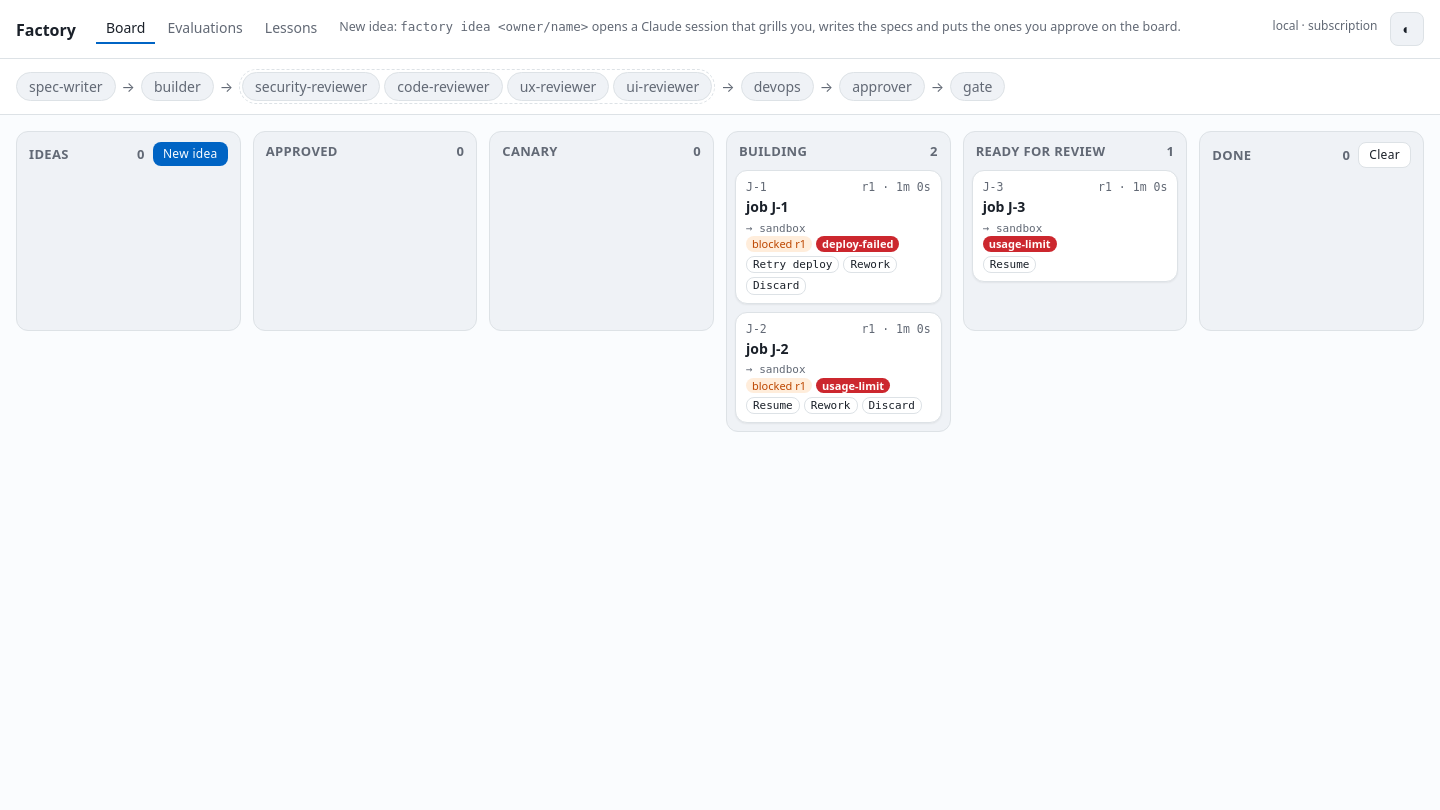
Test: card actions › a blocked card offers Retry deploy, Rework and Discard; a usage-limited one Resume
Later steps or results of the test are not shown.
Click the button "Retry deploy".
click(793, 264)  # box [746,256,840,273]
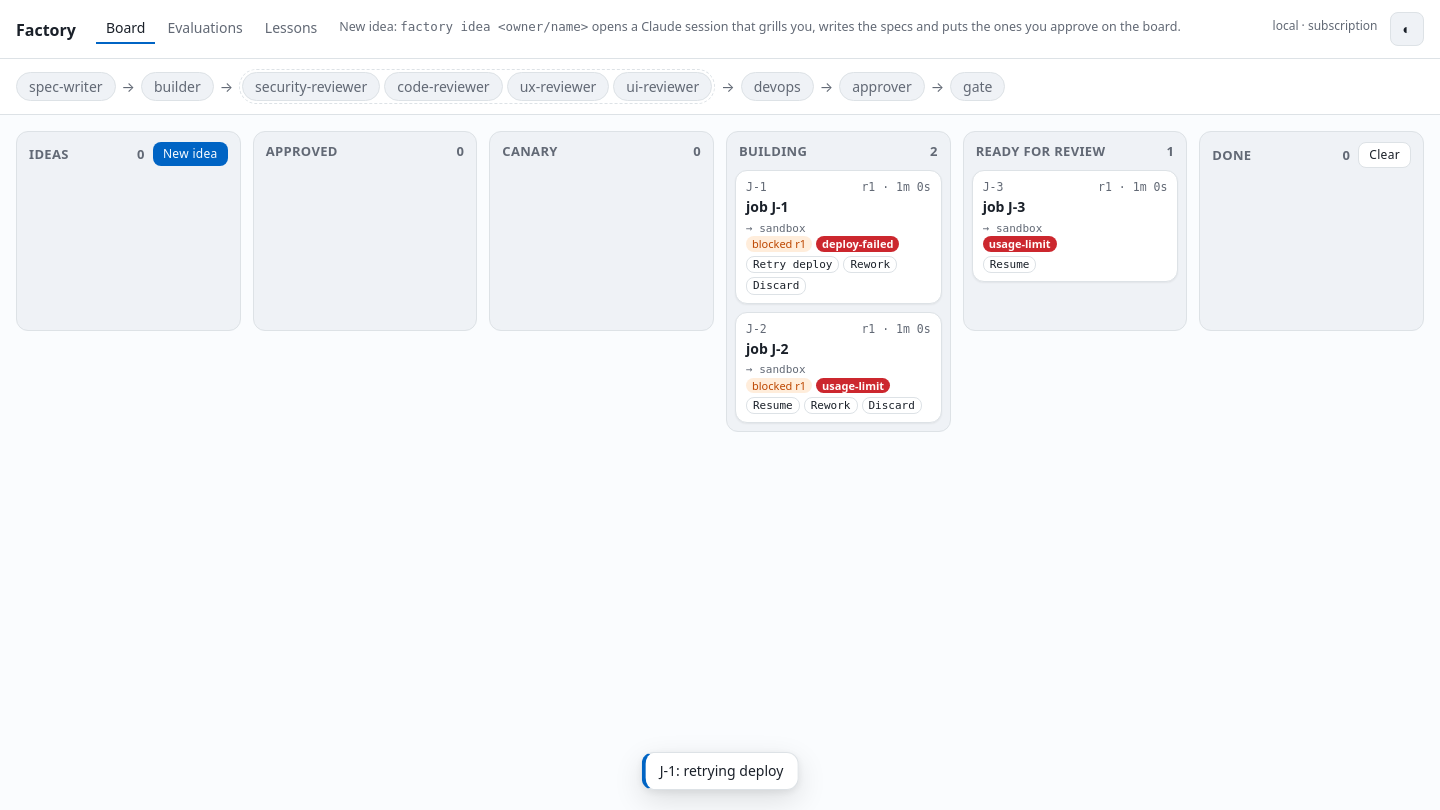
Expected: the message with id "toast" reads "J-1: retrying deploy", [660,761,783,780]
